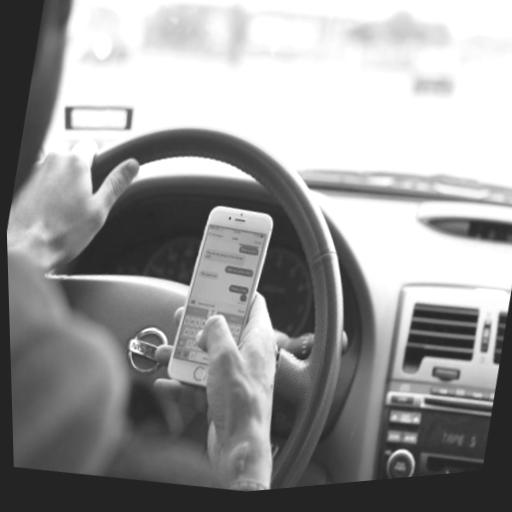Hands-on-the-Wheel: (4, 108, 156, 295)
